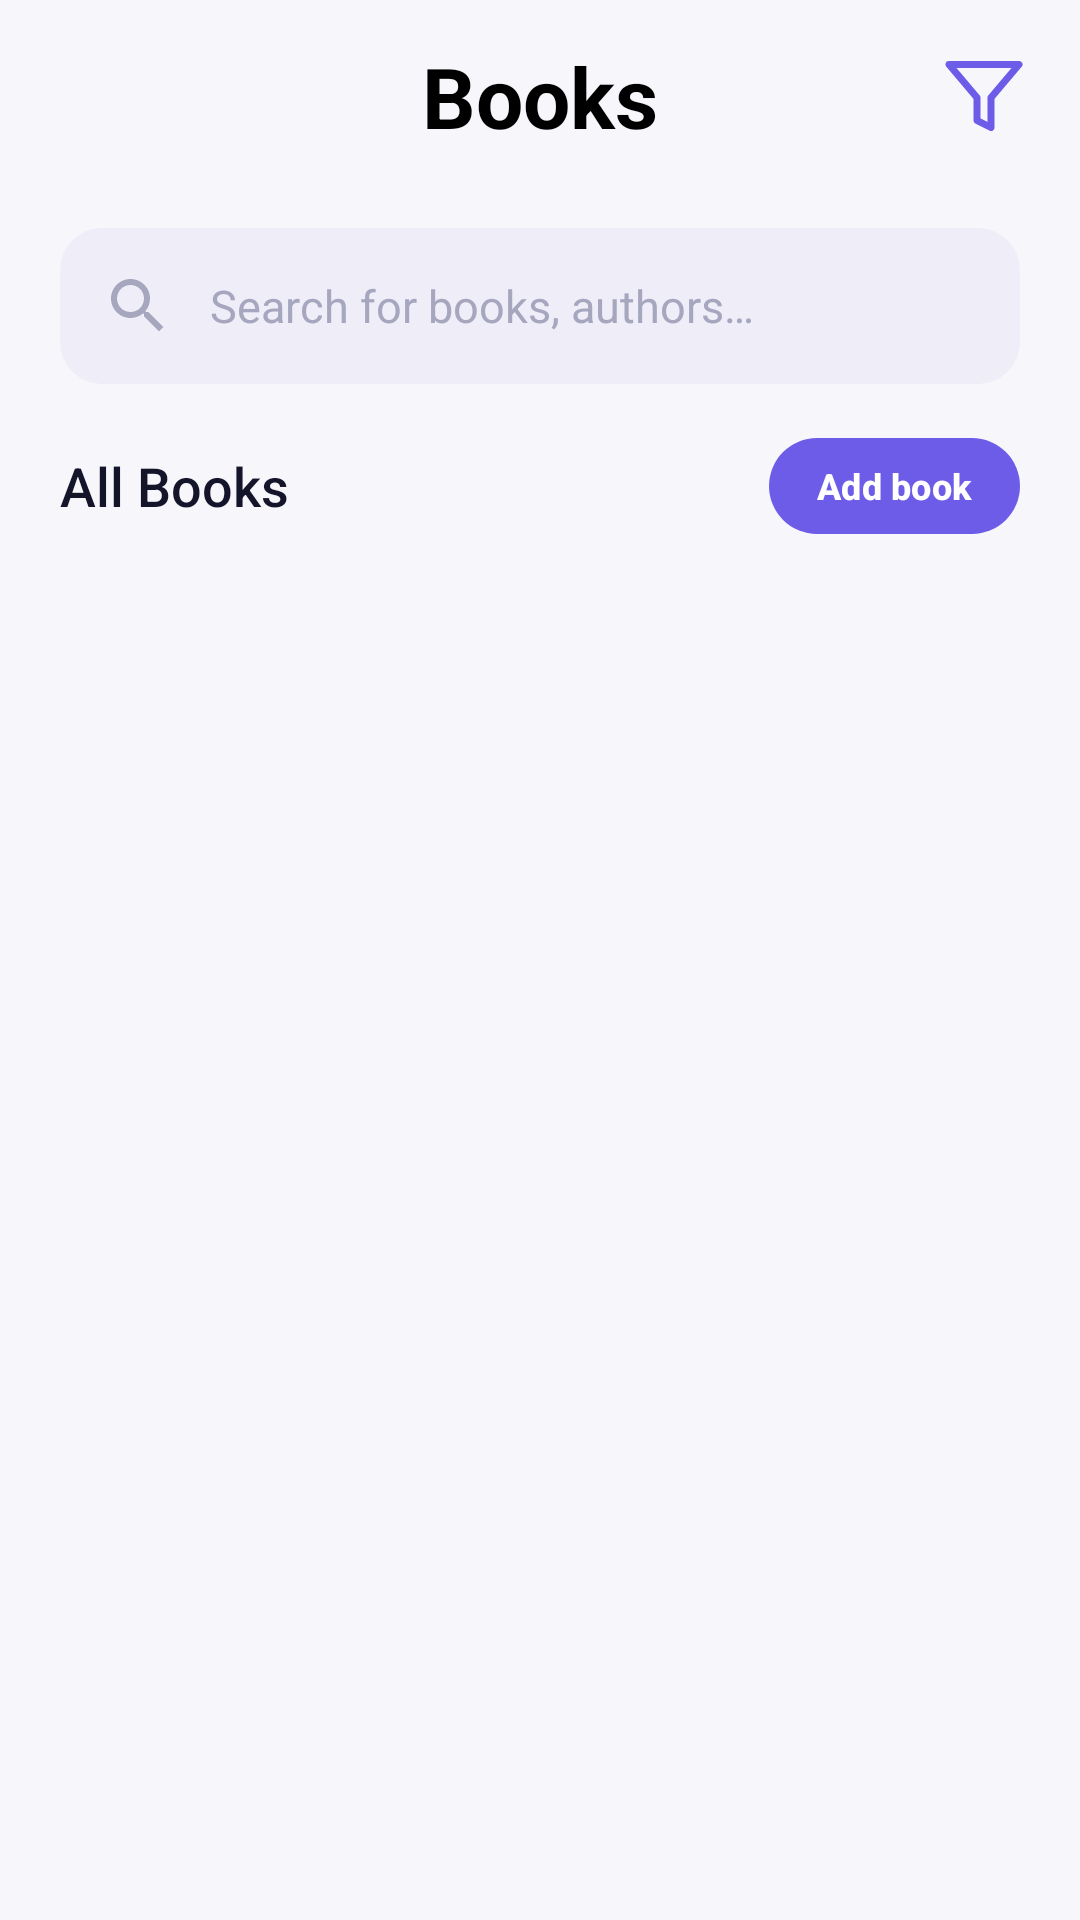

Where icons sit on this 1080 x 1920 app screen, as (x1, y1, x2, y2):
Filter: (945, 61, 1023, 131)
